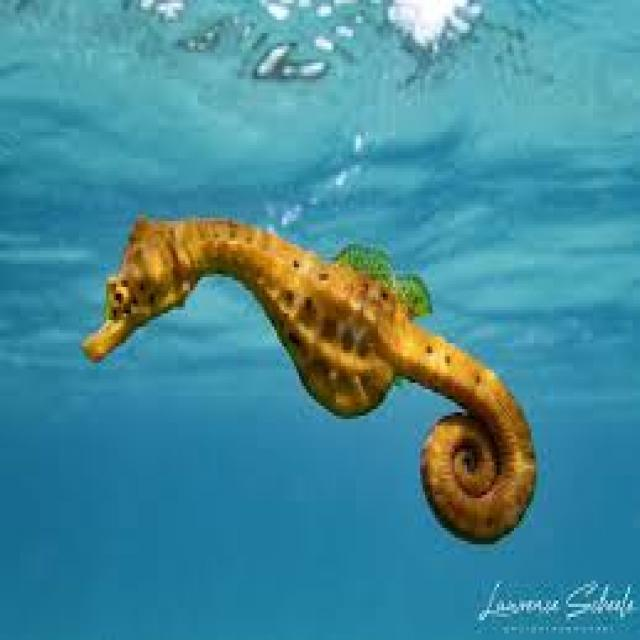SeaHorse: (79, 218, 539, 548)
